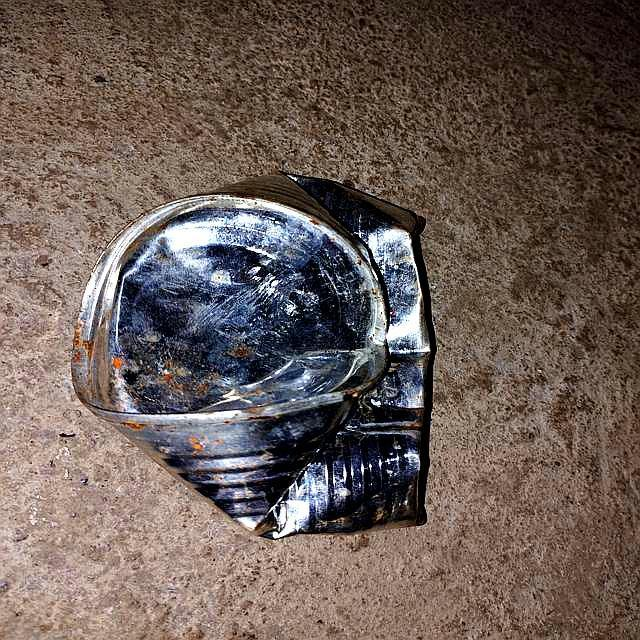Non-biodegradable: (70, 170, 438, 542)
